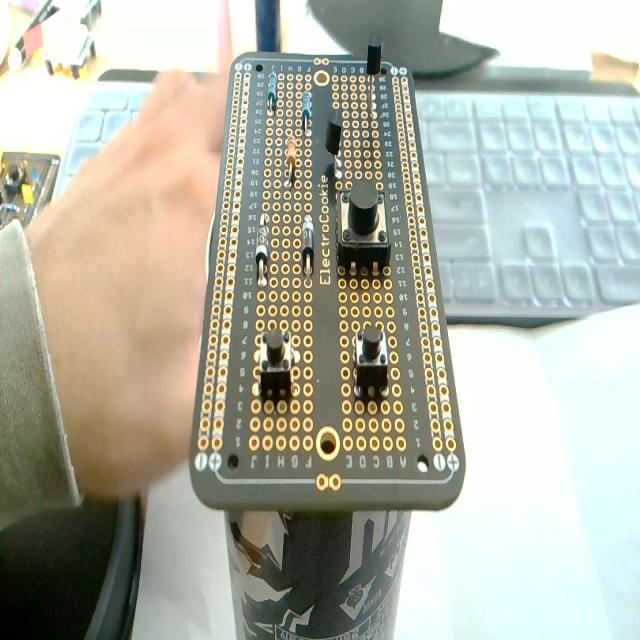diode: (255, 220, 269, 285), (302, 216, 314, 276)
resistor: (285, 136, 297, 188), (302, 89, 312, 131), (267, 70, 277, 110)
switch: (336, 184, 391, 276), (355, 321, 389, 400), (259, 325, 294, 400)
transistor: (367, 37, 383, 114), (324, 114, 342, 182)
